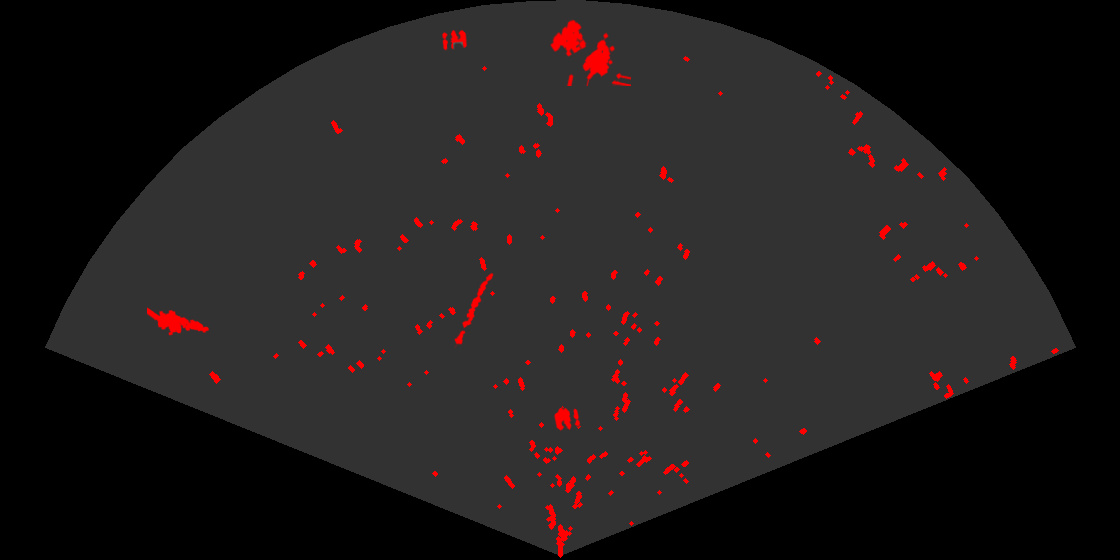ball: (553, 406, 582, 433), (441, 28, 469, 52)
cage: (549, 18, 631, 86)
chain: (453, 271, 495, 348)
frogman: (147, 306, 211, 337)
